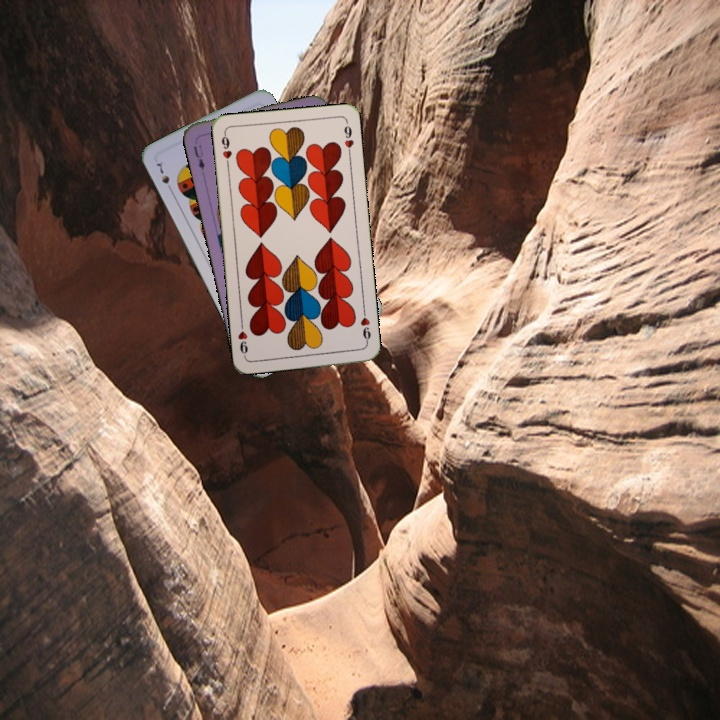EU: (190, 140, 207, 173)
H9: (217, 129, 234, 170), (356, 306, 373, 347)
S7: (153, 158, 175, 195)
